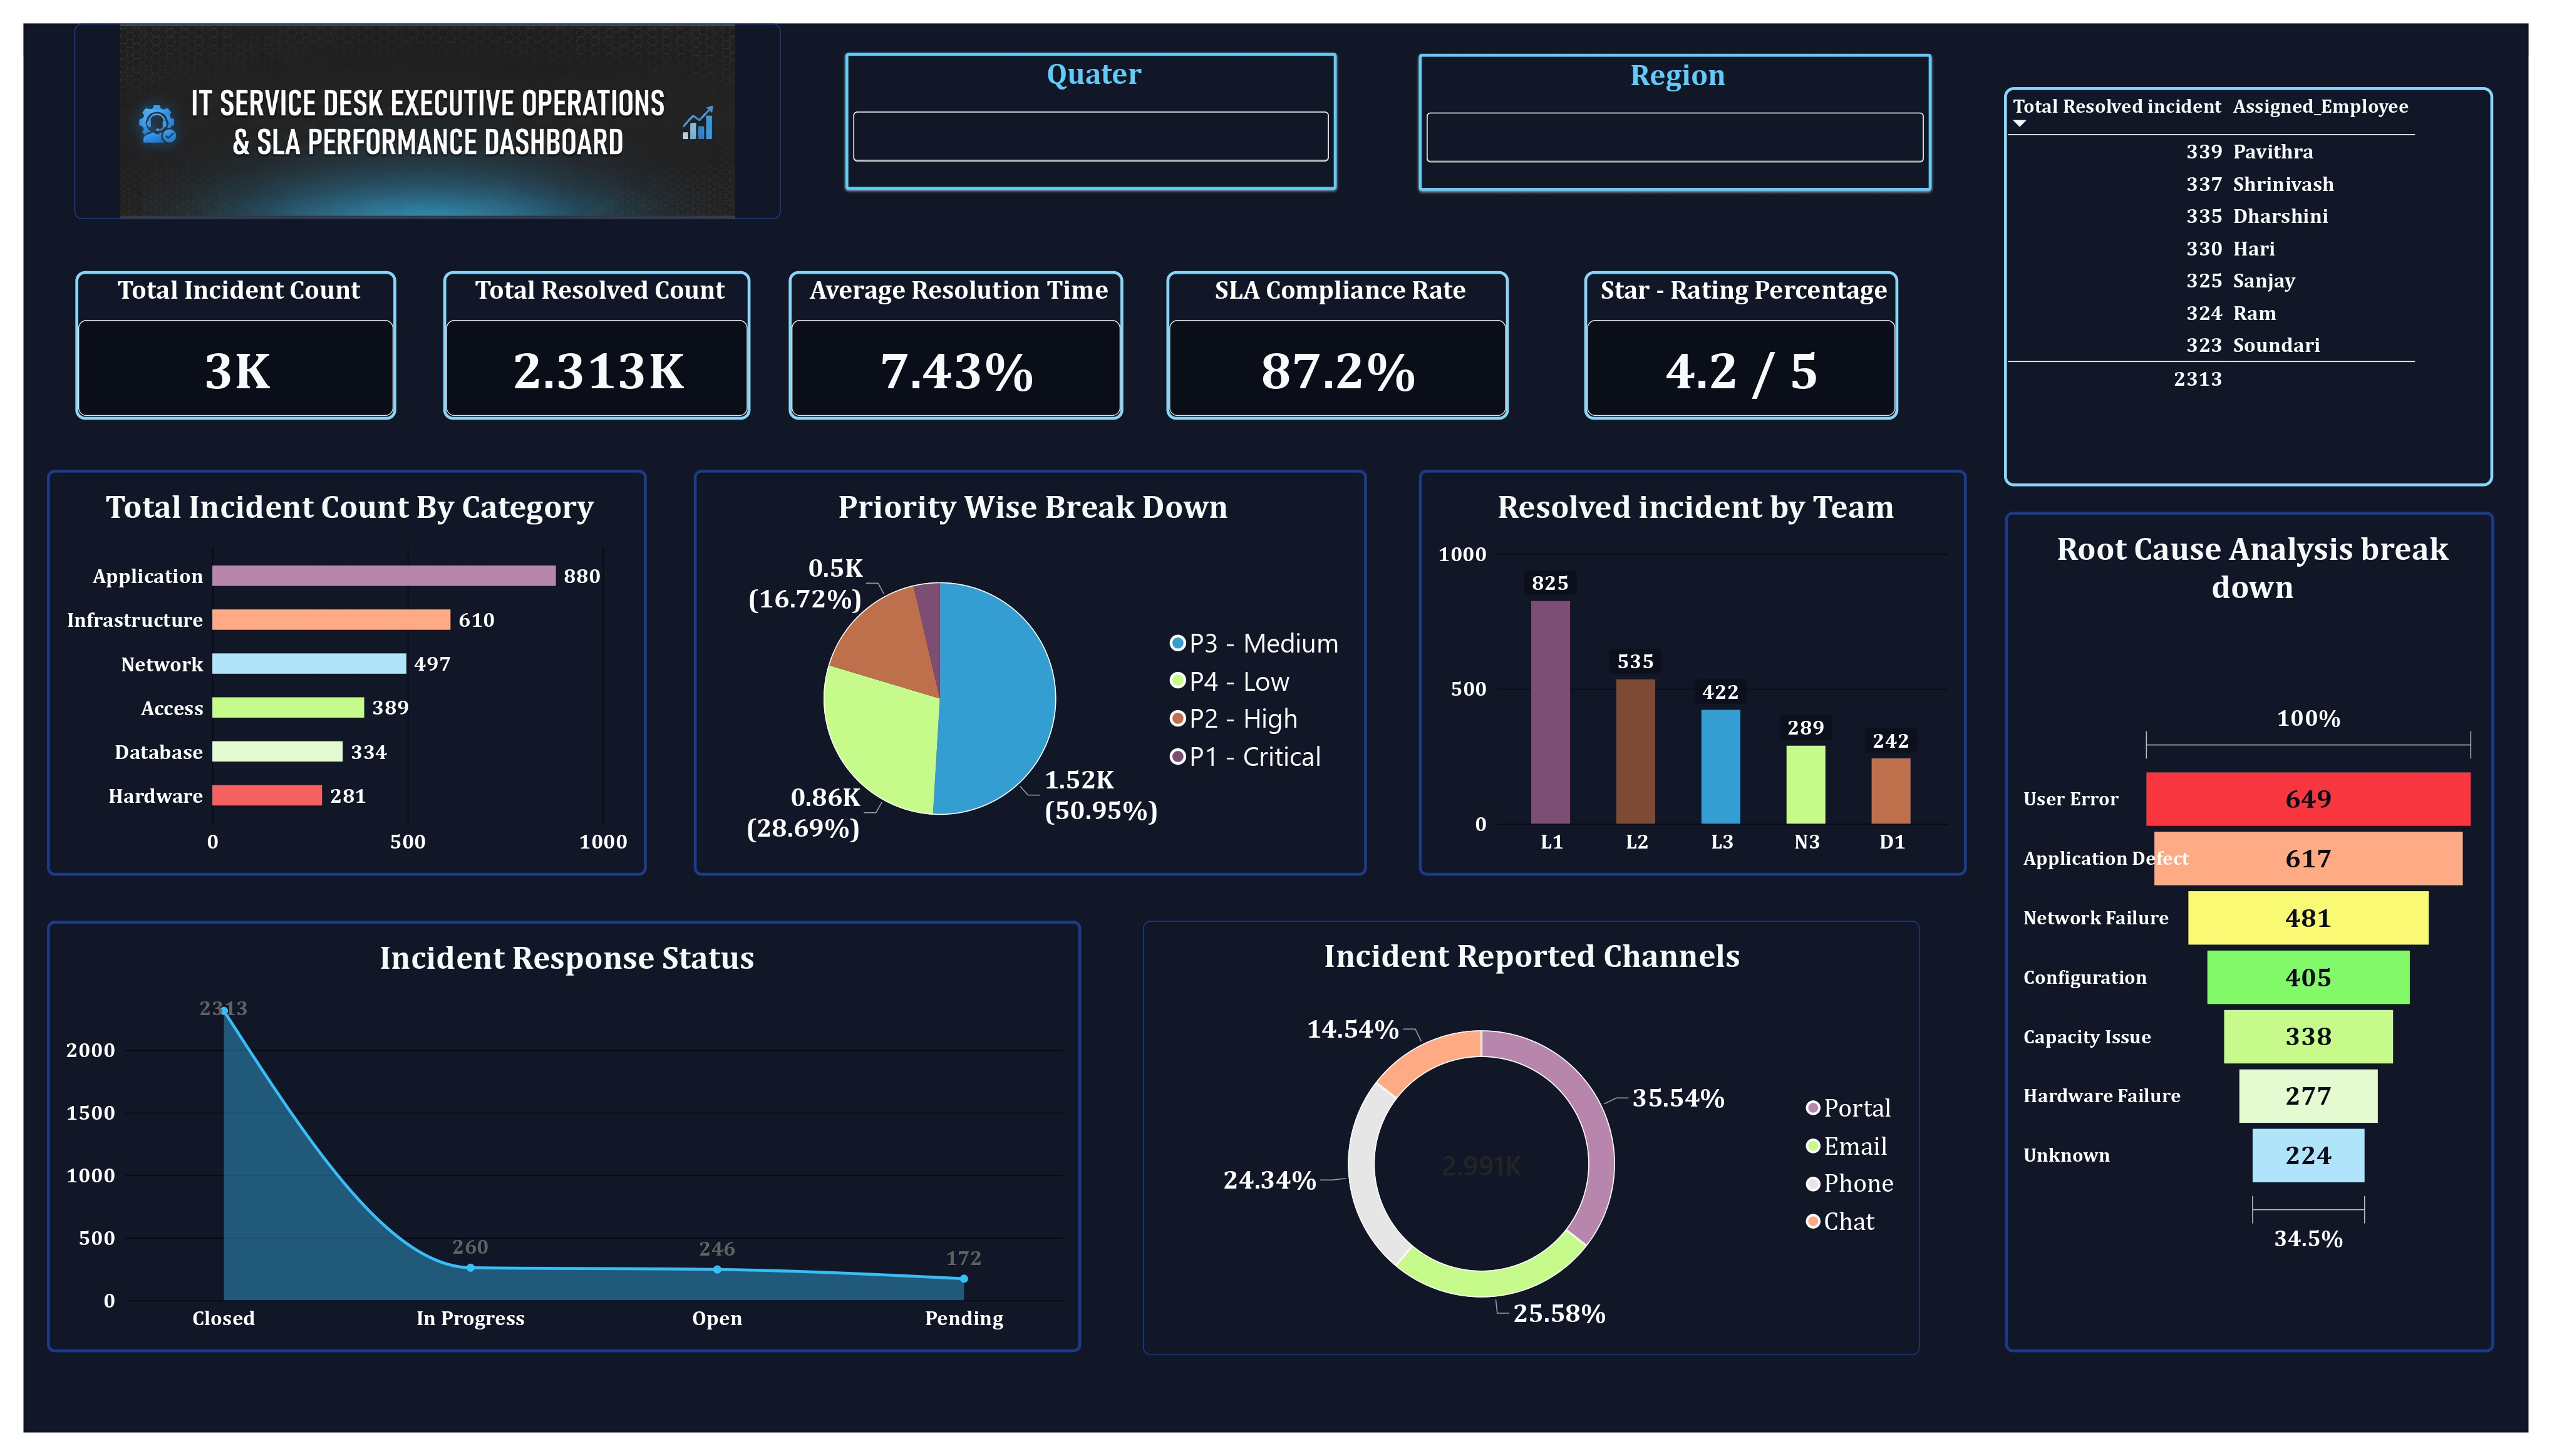

This screenshot's page, from the dashboard's own definition file:
{"tool":"powerbi","page":{"name":"Page 1","canvas":[2560,1440],"ordinal":0},"visuals":[{"type":"cardVisual","title":"Total Incident Count","fields":{"Data":["Fact-Details.Total Incident Count"]},"box":[53.1,253.4,328.2,152],"z":0},{"type":"cardVisual","title":"Total Resolved Count","fields":{"Data":["Fact-Details.Total Resolved incident"]},"box":[429.5,253.4,313.7,152],"z":1000},{"type":"cardVisual","title":"Average Resolution Time","fields":{"Data":["Fact-Details.Average Resolution Time"]},"box":[781.8,253.4,342.6,152],"z":2000},{"type":"cardVisual","title":"SLA Compliance Rate","fields":{"Data":["Fact-Details.SLA Compliance Rate"]},"box":[1167.8,253.4,349.9,152],"z":3000},{"type":"clusteredBarChart","title":"Total Incident Count By Category","fields":{"Y":["Fact-Details.Total Incident Count"],"Category":["Category.Category"]},"box":[24.1,456,612.9,415],"z":4000},{"type":"pieChart","title":"Priority Wise Break Down","fields":{"Category":["Fact-Details.Priority_Name"],"Y":["CountNonNull(Fact-Details.Priority_Name)"]},"box":[685.3,456,687.7,415],"z":5000},{"type":"slicer","title":"Quater","fields":{"Values":["Date.Quater"]},"box":[839.8,30.2,502.2,140],"z":6000},{"type":"lineClusteredColumnComboChart","title":"Resolved incident by Team","fields":{"Category":["Fact-Details.Assignment_Group_Team"],"Y":["Fact-Details.Total Resolved incident"]},"box":[1426,456,559.8,415],"z":7000},{"type":"cardVisual","title":"Star - Rating Percentage","fields":{"Data":["Fact-Details.Cutomer Straifaction Rating %"]},"box":[1594.9,253.4,320.9,152],"z":8000},{"type":"slicer","title":"Region","fields":{"Values":["Region.Region"]},"box":[1426,31.4,523.6,139.9],"z":9000},{"type":"funnel","title":"Root Cause Analysis break down","fields":{"Category":["Fact-Details.Root_Cause"],"Y":["Fact-Details.Total Incident Count"]},"box":[2025.4,499.5,499.5,859],"z":10000},{"type":"tableEx","fields":{"Values":["Fact-Details.Total Resolved incident","Fact-Details.Assigned_Employee"]},"box":[2024.4,65.1,499.5,407.8],"z":11000},{"type":"lineChart","title":"Incident Response Status","fields":{"Y":["Fact-Details.Total Incident Count"],"Category":["Fact-Details.Status"]},"box":[24.1,916.9,1056.8,441.6],"z":12000},{"type":"donutChart","title":"Incident Reported Channels","fields":{"Y":["CountNonNull(Fact-Details.Channel)"],"Category":["Fact-Details.Channel"]},"box":[1144.4,916.6,793.1,444.6],"z":13000},{"type":"image","box":[52.1,0,721.8,200.3],"z":14000}]}

Visuals, with their boxes on the page's 2560x1440 design canvas (x1, y1, x2, y2). These are canvas units, not pixel positions in the 2552x1456 screenshot, which may show the page scaled, cropped or inside an application window:
"Total Incident Count" cardVisual: x1=53 y1=253 x2=381 y2=405
"Total Resolved Count" cardVisual: x1=430 y1=253 x2=743 y2=405
"Average Resolution Time" cardVisual: x1=782 y1=253 x2=1124 y2=405
"SLA Compliance Rate" cardVisual: x1=1168 y1=253 x2=1518 y2=405
"Total Incident Count By Category" clusteredBarChart: x1=24 y1=456 x2=637 y2=871
"Priority Wise Break Down" pieChart: x1=685 y1=456 x2=1373 y2=871
"Quater" slicer: x1=840 y1=30 x2=1342 y2=170
"Resolved incident by Team" lineClusteredColumnComboChart: x1=1426 y1=456 x2=1986 y2=871
"Star - Rating Percentage" cardVisual: x1=1595 y1=253 x2=1916 y2=405
"Region" slicer: x1=1426 y1=31 x2=1950 y2=171
"Root Cause Analysis break down" funnel: x1=2025 y1=500 x2=2525 y2=1358
tableEx - Fact-Details.Total Resolved incident x Fact-Details.Assigned_Employee: x1=2024 y1=65 x2=2524 y2=473
"Incident Response Status" lineChart: x1=24 y1=917 x2=1081 y2=1358
"Incident Reported Channels" donutChart: x1=1144 y1=917 x2=1938 y2=1361
image: x1=52 y1=0 x2=774 y2=200
